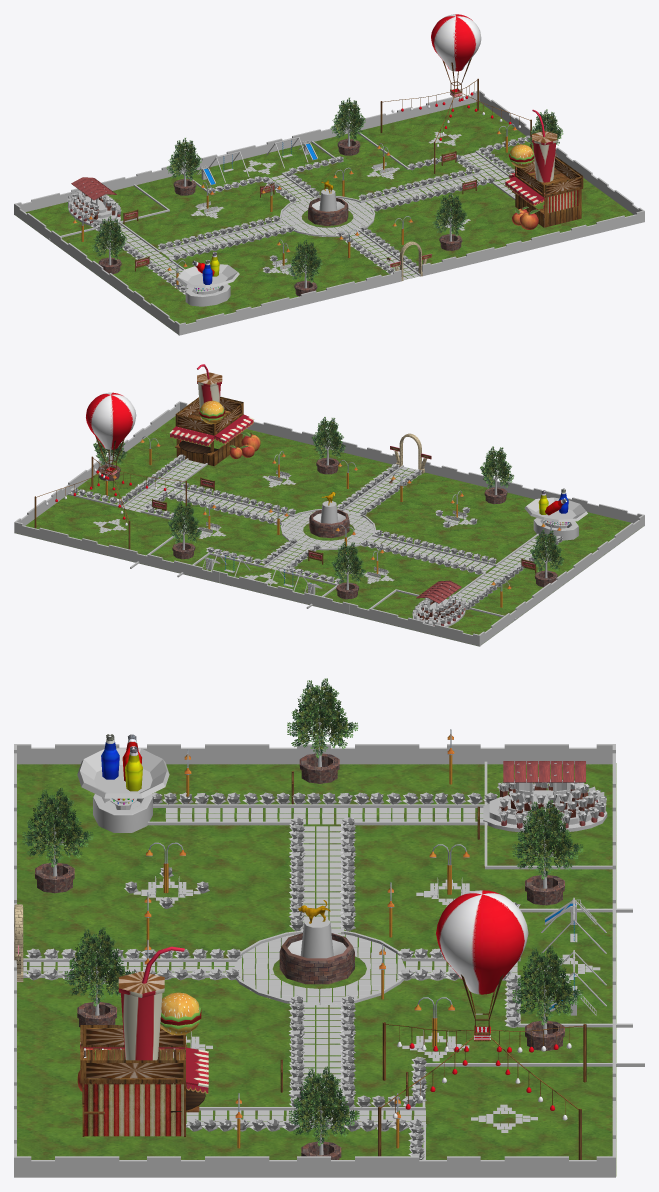
Rendered from park set 1.fbx.
3 renders of one model, top to bottom at view 1: azimuth 30°, elevation 25°; view 2: azimuth 150°, elevation 25°; view 3: azimuth 270°, elevation 25°, orthographic. The views are drawn at different scales.
Parts seen in each view (by area): view 1: balloon_shop:polySurface826, polySurface908, polySurface894, pSphere34, pCylinder143, polySurface900, polySurface907, polySurface457, polySurface899, polySurface921, pCylinder140, pCylinder137 (+12 smaller); view 2: balloon_shop:polySurface826, polySurface894, polySurface908, pSphere34, polySurface900, pCylinder143, polySurface907, polySurface899, polySurface457, polySurface921, polySurface31, pCylinder141 (+18 smaller); view 3: balloon_shop:polySurface826, polySurface908, polySurface899, polySurface900, pSphere34, polySurface907, pCylinder143, polySurface457, polySurface921, pCylinder138, pCylinder140, pCylinder136 (+34 smaller).
Part boxes in pixels (x1,y1,x2,y2): balloon_shop:polySurface826: (21,101,633,331); polySurface908: (504,109,583,229); polySurface894: (14,90,479,214); pSphere34: (431,14,481,97); pCylinder143: (176,252,239,306); polySurface900: (15,204,179,334); polySurface907: (67,177,121,225); polySurface457: (281,197,373,236); polySurface899: (479,90,643,214); polySurface921: (308,179,348,226); pCylinder140: (287,239,322,282); pCylinder137: (330,97,365,141); balloon_shop:polySurface826: (16,416,643,645); polySurface894: (14,522,480,646); polySurface908: (169,364,260,466); pSphere34: (86,392,136,476); polySurface900: (478,515,643,645); pCylinder143: (524,488,587,540); polySurface907: (412,580,466,626); polySurface899: (15,402,179,525); polySurface457: (282,511,374,548); polySurface921: (309,492,349,538); polySurface31: (34,456,186,549); pCylinder141: (311,417,345,458); balloon_shop:polySurface826: (17,763,616,1176); polySurface908: (77,946,208,1136); polySurface899: (15,1156,614,1177); polySurface900: (15,744,614,764); pSphere34: (436,890,528,1041); polySurface907: (483,761,607,832); pCylinder143: (77,734,169,832); polySurface457: (234,933,405,1005); polySurface921: (279,900,354,984); pCylinder138: (512,799,583,879); pCylinder140: (22,787,93,867); pCylinder136: (288,1066,359,1146).
Bounding box in the file's own units: 558 × 145 × 355.
